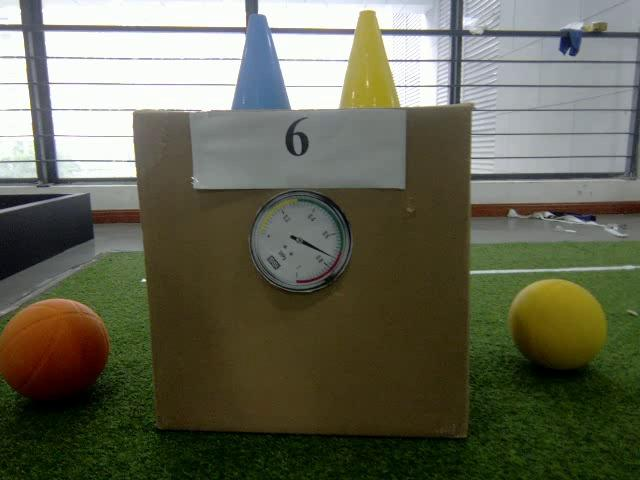6: (284, 116, 312, 158)
Dashboard: (248, 191, 352, 294)
blue_barrel: (228, 12, 292, 110)
orange_ball: (2, 300, 108, 400)
ssi: (264, 255, 282, 273)
yellow_ball: (510, 278, 608, 372)
yellow_barrel: (344, 9, 399, 109)
